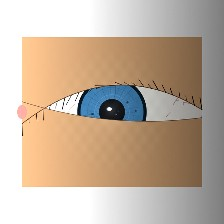pinguecula_lesion: (38, 100, 85, 137)
